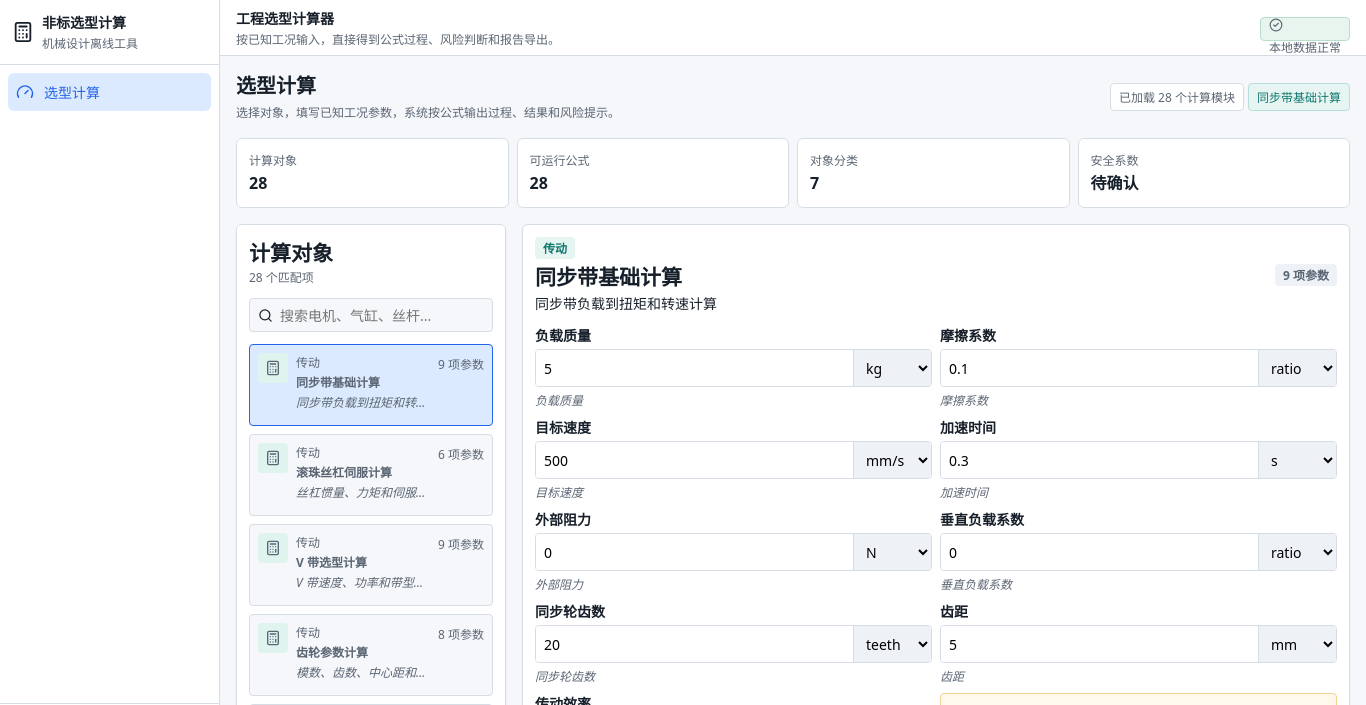
Scenario: 气动与支撑计算 › 在选型计算中完成滑台气缸计算
Expected: the text "本地数据正常" is shown, x1=1269 y1=38 x2=1341 y2=56
Type "滑台气缸" into the field named "搜索计算对象".
click(381, 315); type("滑台气缸")  # box x1=278 y1=304 x2=484 y2=326
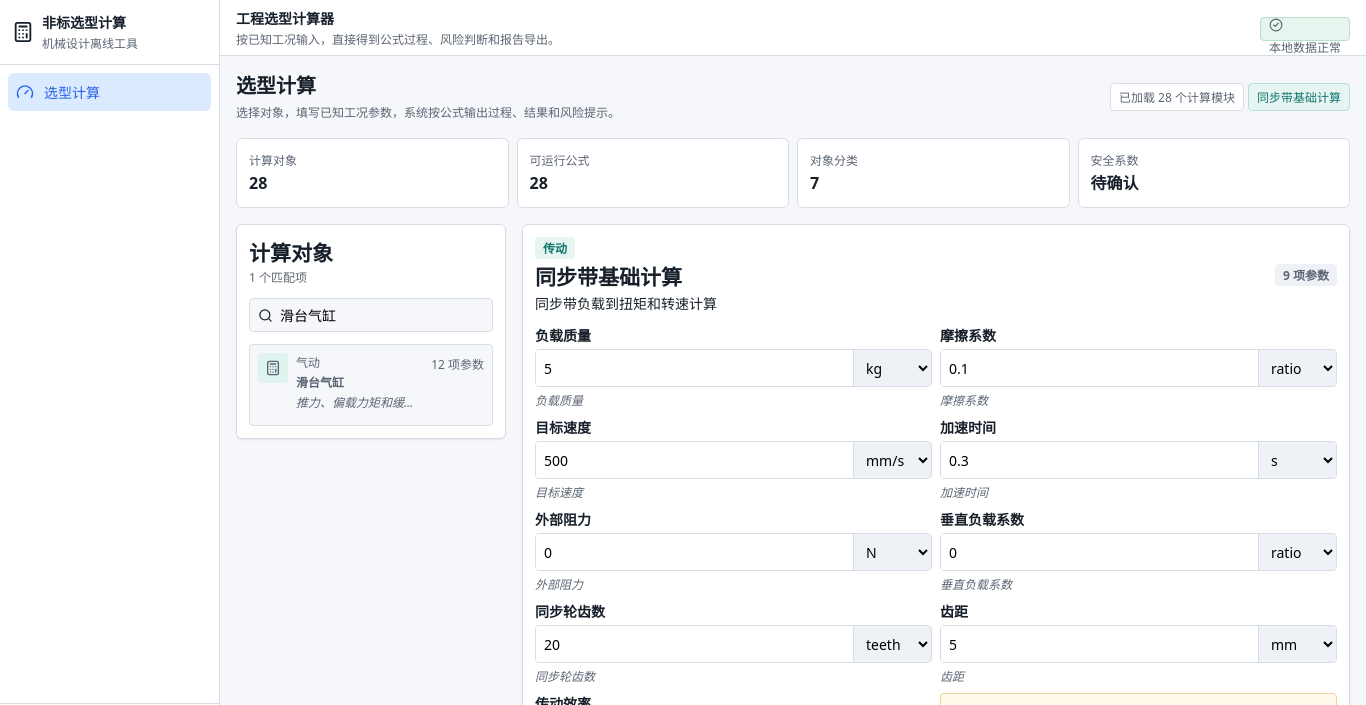
Click the button "气动 滑台气缸 推力、偏载力矩和缓冲动能校核 12 项参数".
click(371, 385)  # box x1=249 y1=344 x2=493 y2=426
(page scrolled)
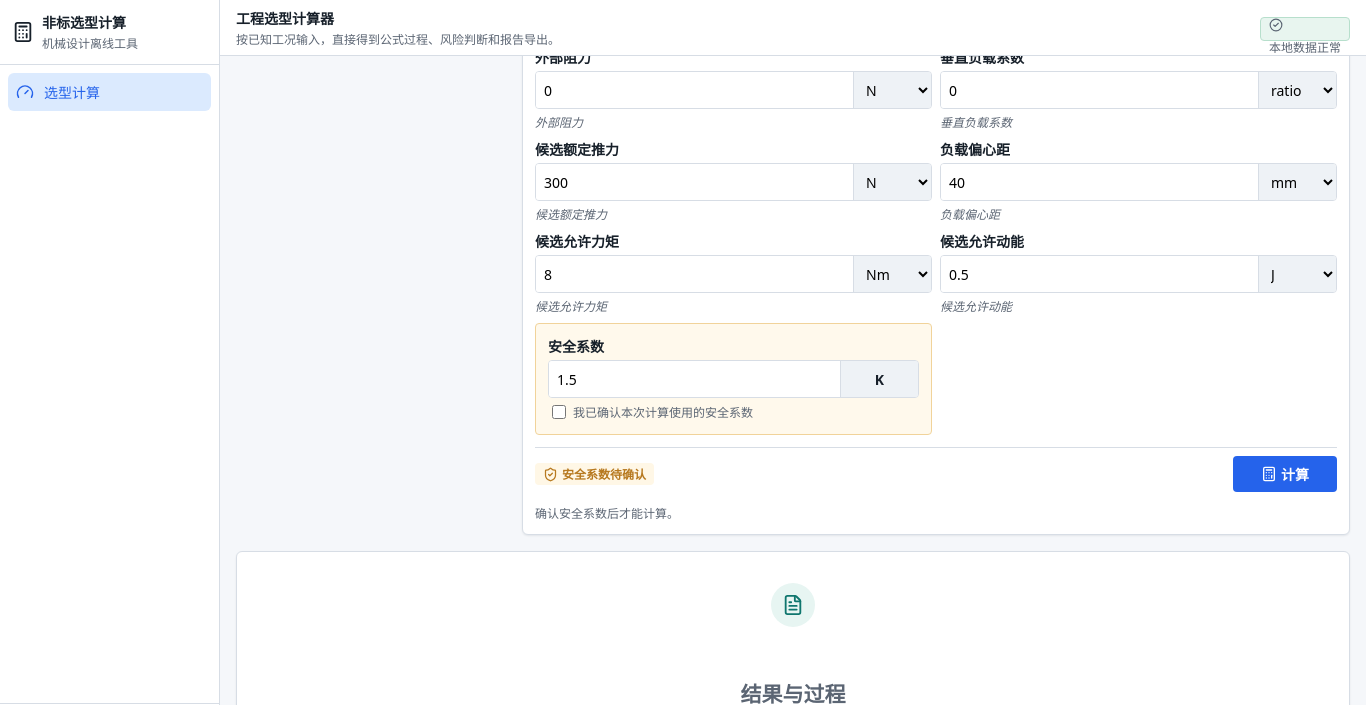
Click the checkbox labelled "我已确认本次计算使用的安全系数".
click(559, 412)  # box x1=552 y1=405 x2=566 y2=419
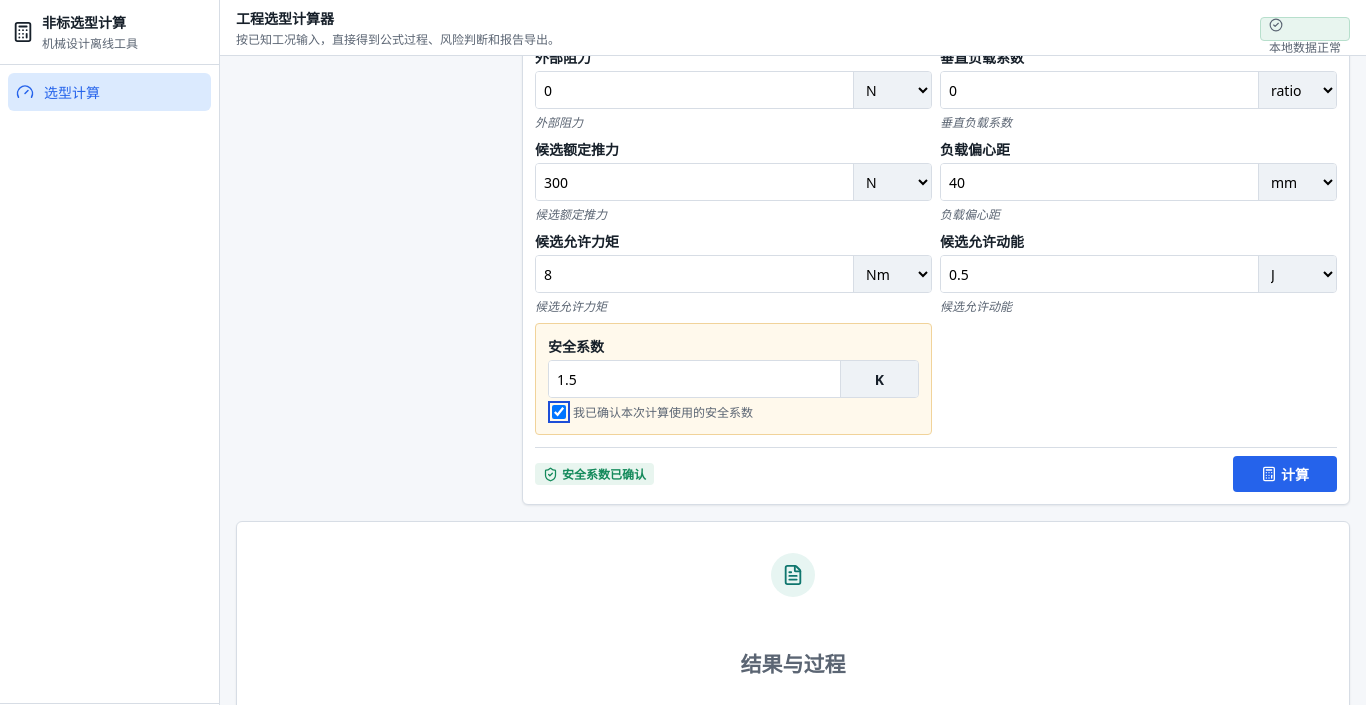
Click the button "计算".
click(1285, 474)  # box x1=1233 y1=456 x2=1337 y2=492
(page scrolled)
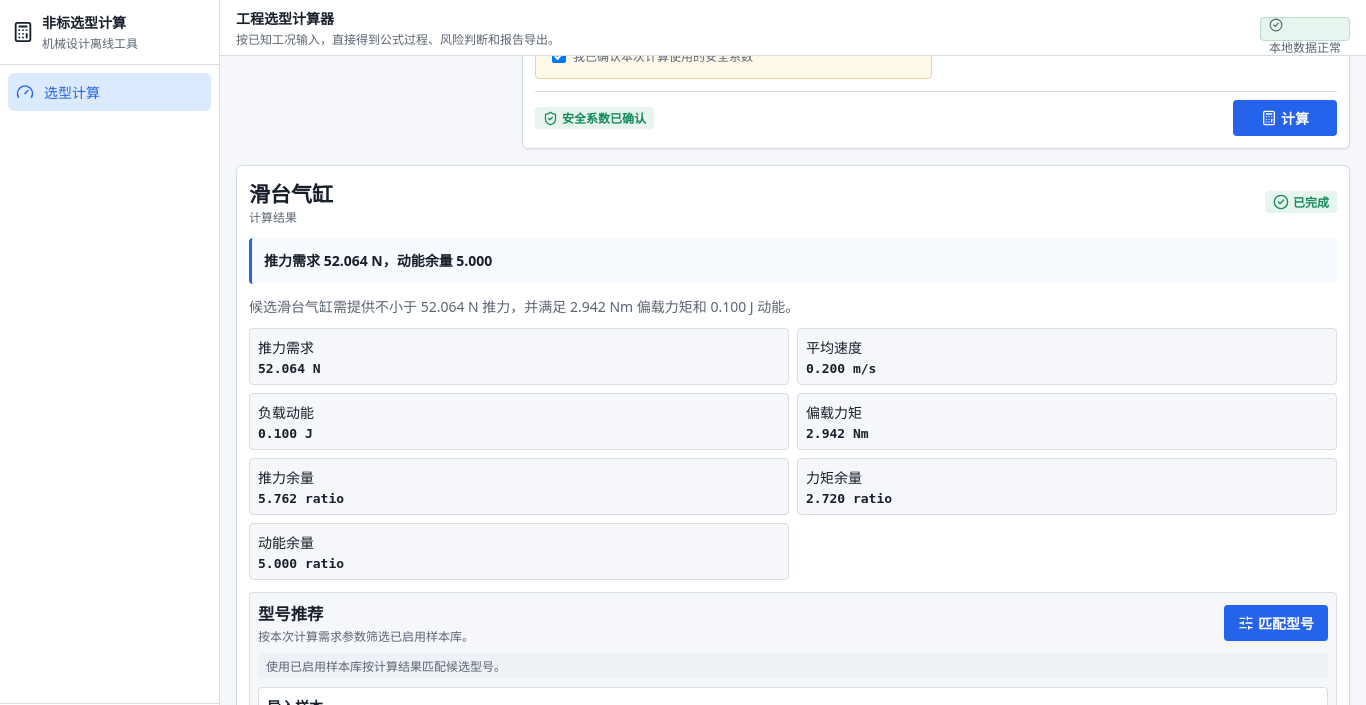
Expected: the text "推力需求" is shown, x1=258 y1=338 x2=314 y2=357
Expected: the text "负载动能" is shown, x1=258 y1=403 x2=314 y2=422
Expected: the text "偏载力矩" is shown, x1=806 y1=403 x2=862 y2=422
